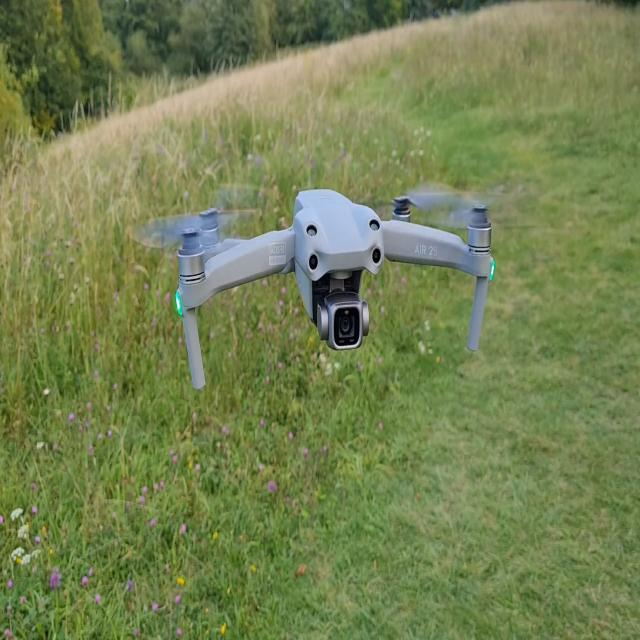drone: (127, 186, 496, 391)
